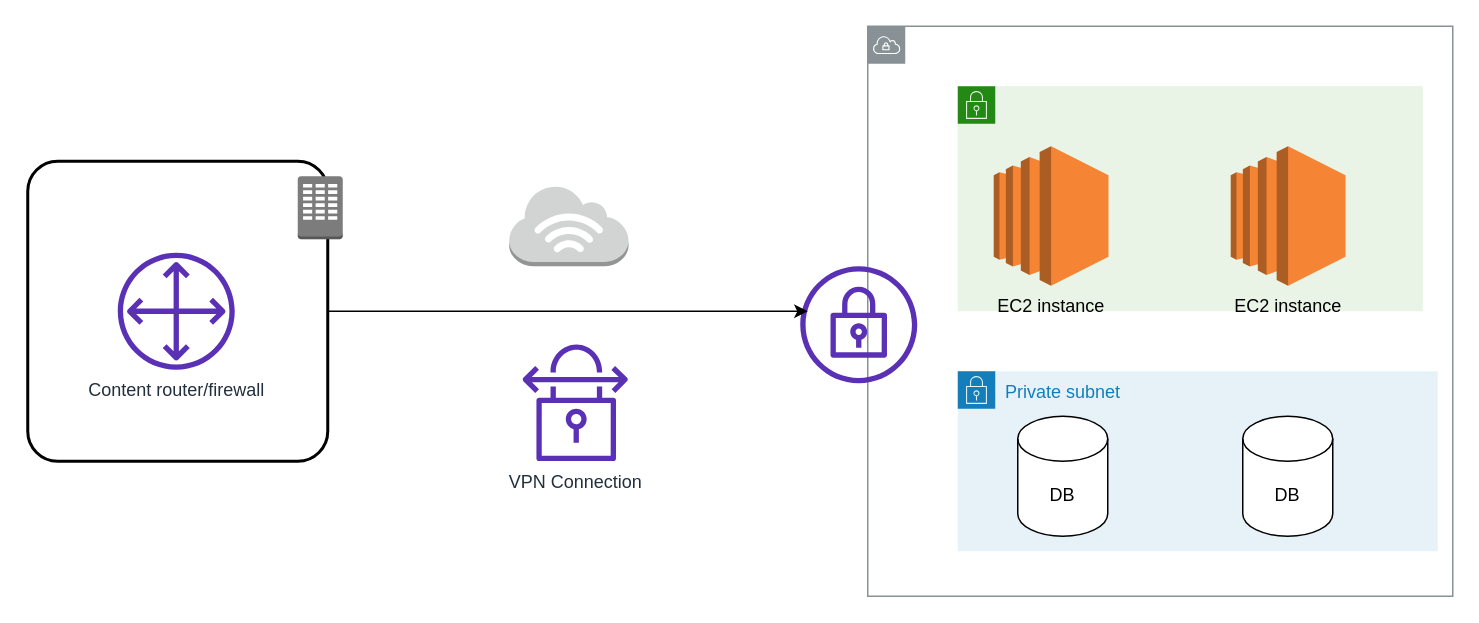
Image size: 1479x623. Some labels were removed from this diagram. Here are the shapes that lost their labels. From the top down, the box of each, then its label:
(956, 85, 1423, 311): Public subnet
(508, 184, 628, 266): Internet
(866, 25, 1453, 596): VPC
